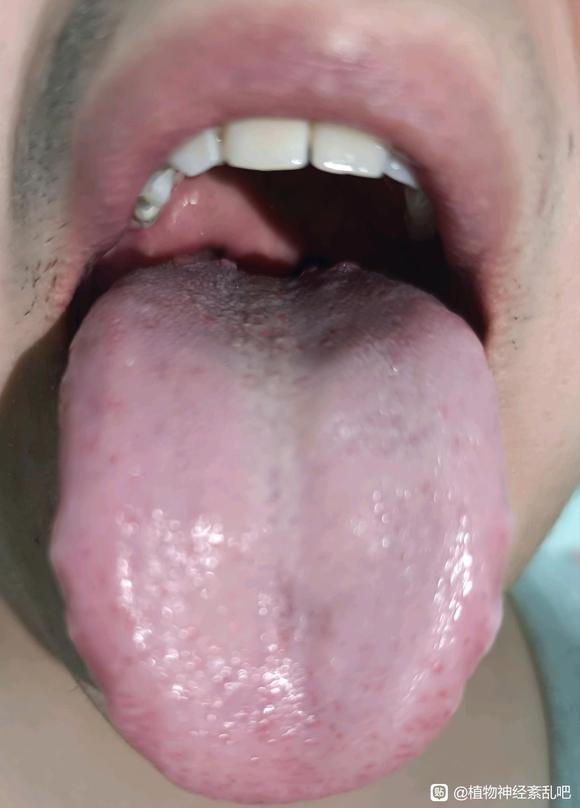baitaishe: (48, 246, 512, 808)
